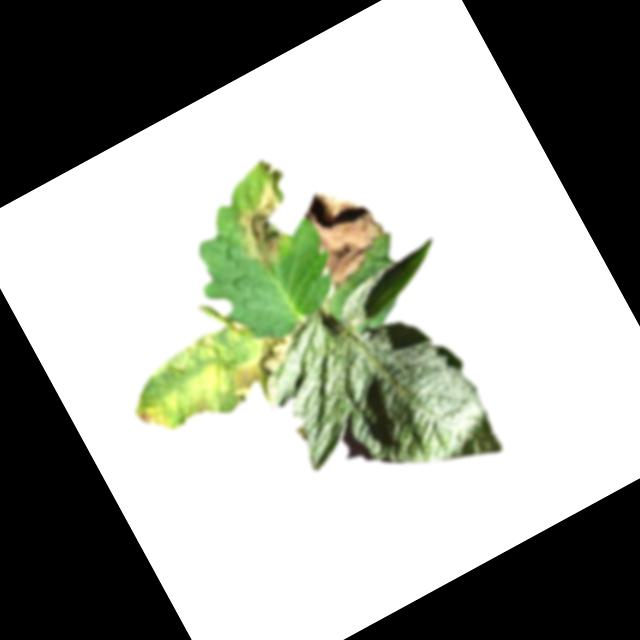Late_blight: (204, 152, 321, 278), (287, 172, 399, 292), (218, 326, 306, 404), (131, 397, 173, 443)
healthy: (248, 262, 509, 535)
